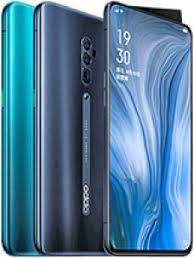oppo: (99, 3, 193, 258)
